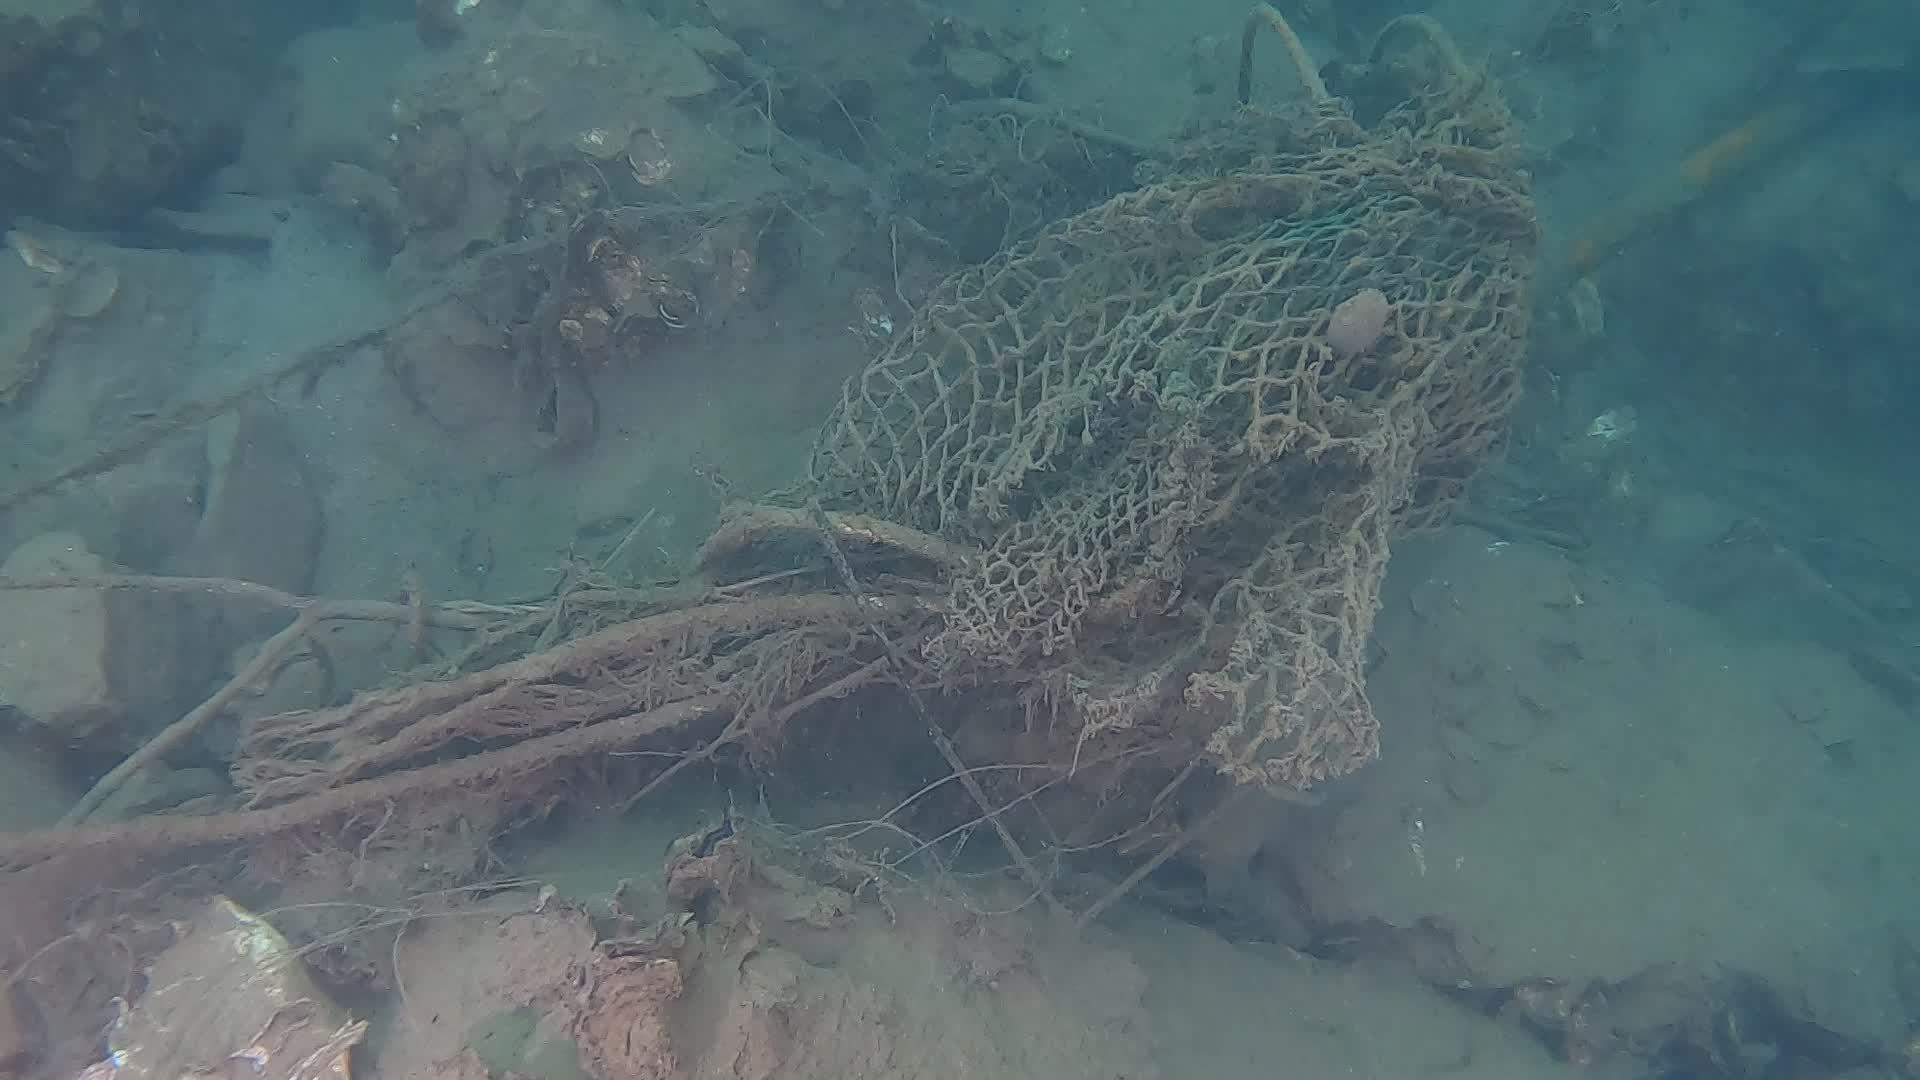fish net: (803, 137, 1539, 771)
